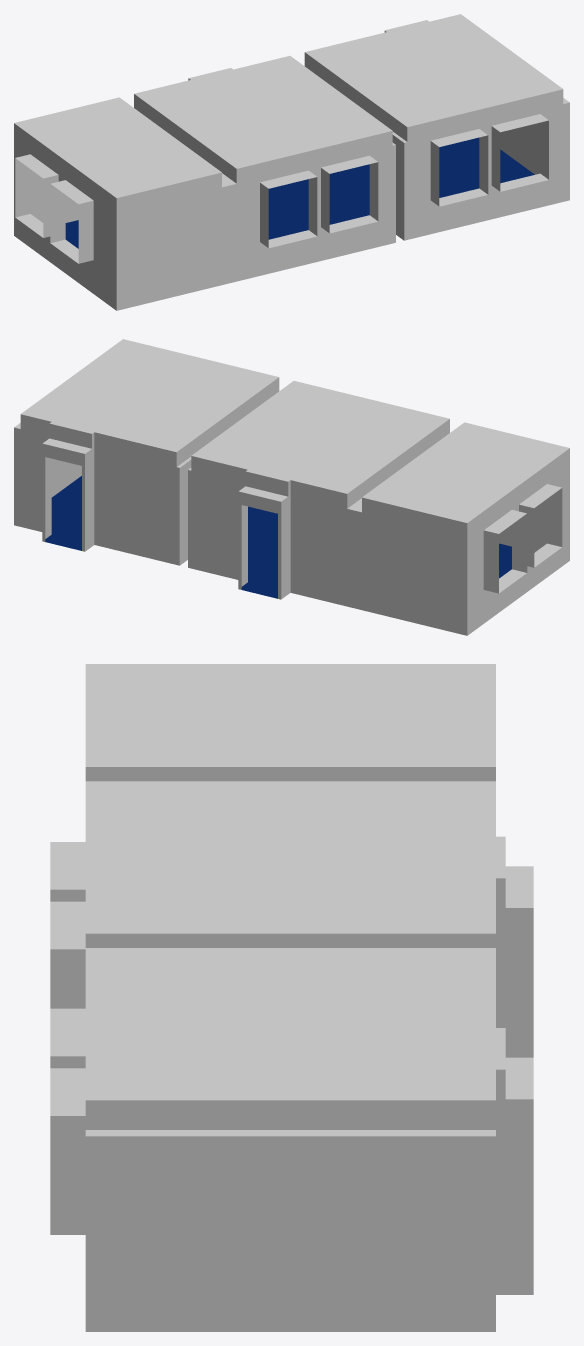
The model's file is patro1-A807.fbx.
The picture shows the model from 3 angles, top to bottom: view 1: azimuth 30°, elevation 25°; view 2: azimuth 150°, elevation 25°; view 3: azimuth 270°, elevation 25°; orthographic projection. The views are drawn at different scales.
Visible parts, largest first — view 1: A807.Top, A807.Front, A807.Left, A807.Bottom, A807.Right, A807.Back; view 2: A807.Top, A807.Back, A807.Left, A807.Bottom, A807.Front, A807.Right; view 3: A807.Top, A807.Right.
Part boxes in pixels (x1,y1,x2,y2): A807.Top: (14,14,569,204); A807.Front: (43,89,569,310); A807.Left: (14,31,500,310); A807.Bottom: (15,137,548,263); A807.Right: (308,120,548,235); A807.Back: (15,158,78,242); A807.Top: (14,339,569,533); A807.Back: (14,414,534,635); A807.Left: (85,377,569,635); A807.Bottom: (45,476,561,598); A807.Front: (499,488,562,572); A807.Right: (45,457,247,586); A807.Top: (50,664,533,1136); A807.Right: (50,767,533,1331).
Size of the model in its own units: 1153 by 265 by 515.
